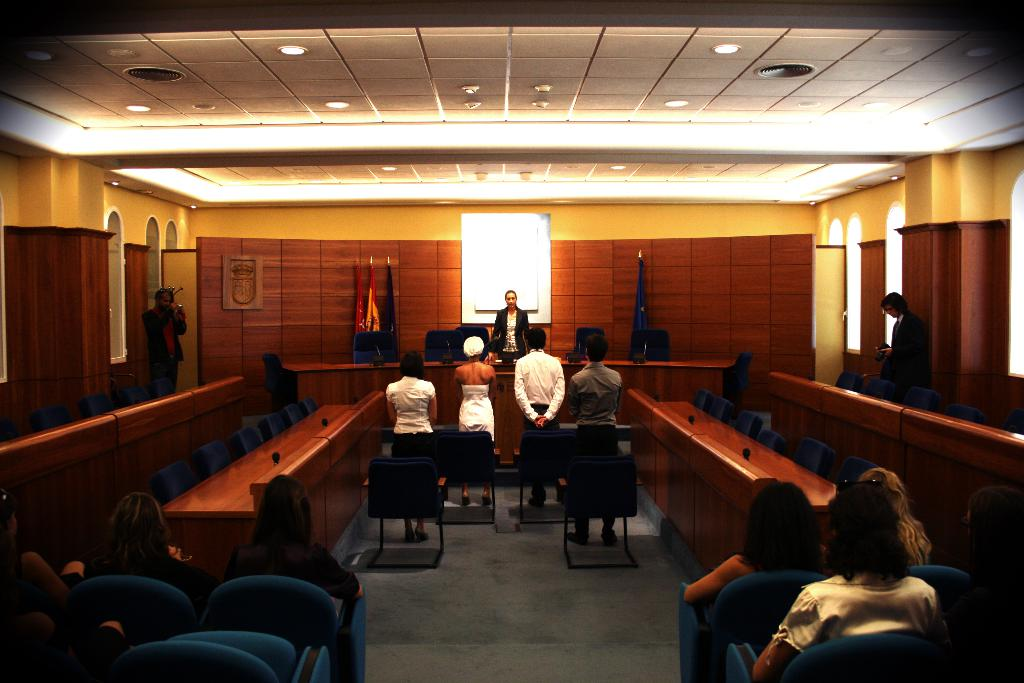Person: (962, 484, 1024, 683), (567, 334, 623, 544), (0, 487, 72, 630), (513, 326, 566, 512), (0, 536, 66, 683), (870, 290, 933, 384), (140, 284, 188, 393), (491, 289, 529, 363)
